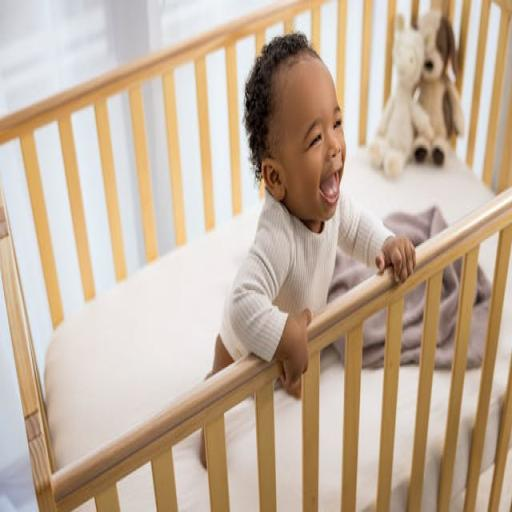baby: (211, 33, 415, 396)
crib: (287, 0, 511, 510)
